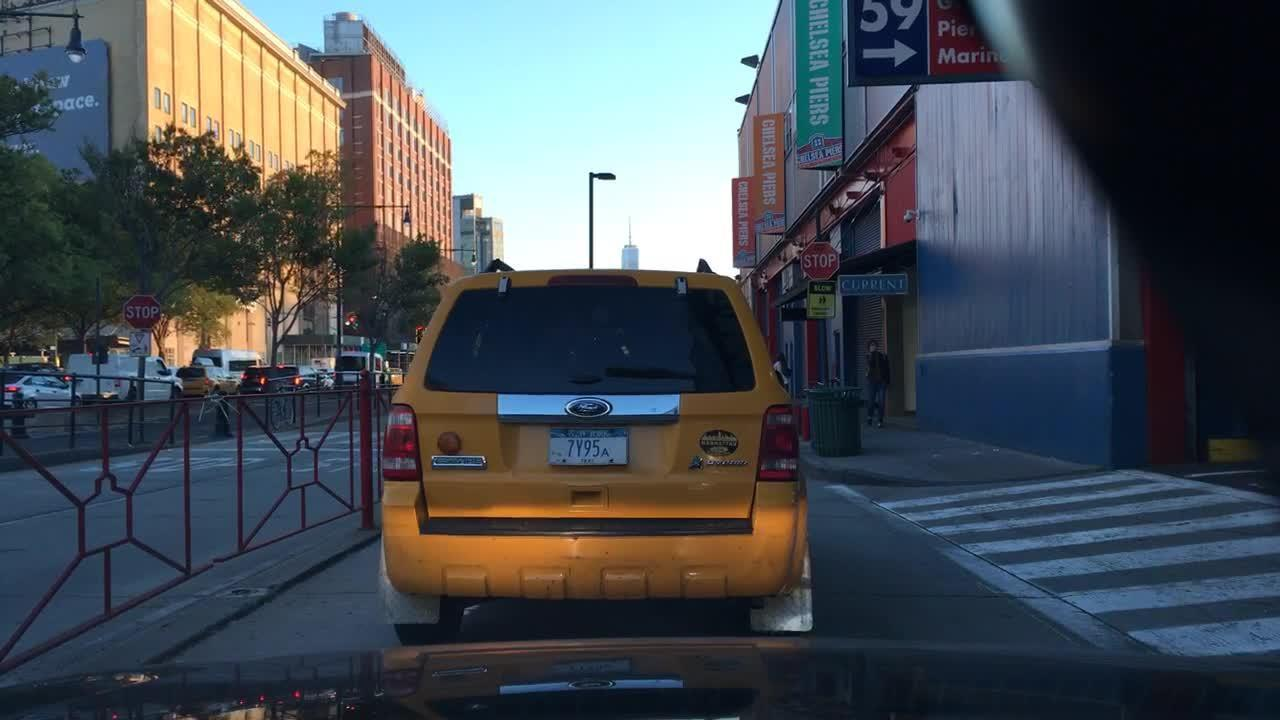ford: (566, 397, 614, 421)
